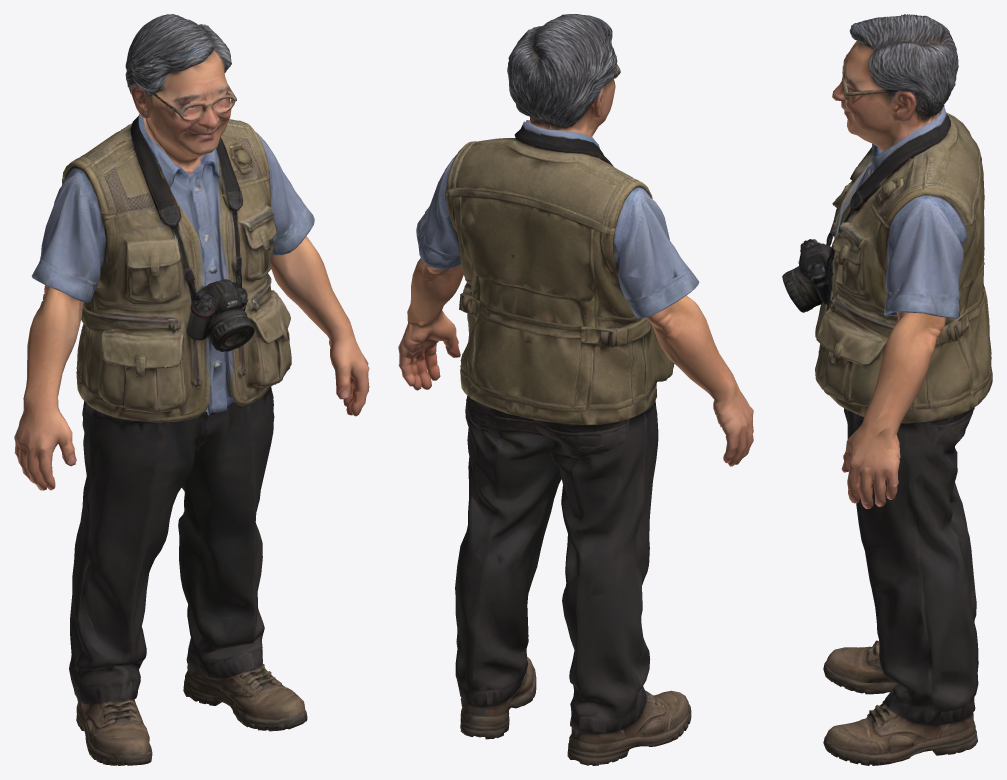
The model's file is owner.glb.
3 views of the same model, side by side, from view 1: azimuth 30°, elevation 25°; view 2: azimuth 150°, elevation 25°; view 3: azimuth 270°, elevation 25° (orthographic).
Parts seen in each view (by area): view 1: tripo_node_cf4f9f57-66c7-4c70-850c-9aa521892957; view 2: tripo_node_cf4f9f57-66c7-4c70-850c-9aa521892957; view 3: tripo_node_cf4f9f57-66c7-4c70-850c-9aa521892957.
Boxes of the visible parts, x1=… form: tripo_node_cf4f9f57-66c7-4c70-850c-9aa521892957: x1=14, y1=14, x2=369, y2=765; tripo_node_cf4f9f57-66c7-4c70-850c-9aa521892957: x1=398, y1=14, x2=753, y2=765; tripo_node_cf4f9f57-66c7-4c70-850c-9aa521892957: x1=782, y1=14, x2=992, y2=765.
Size of the model in its own units: 0.8666 by 1.7 by 0.4625.
1 material, 1 textured.
